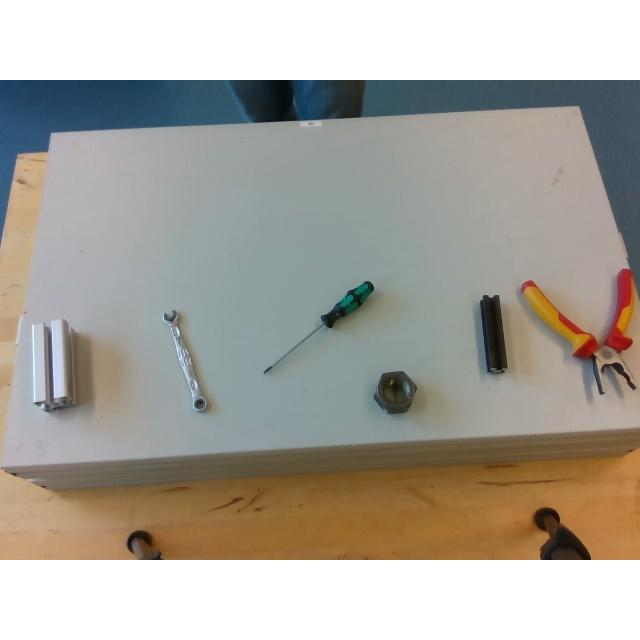F20_20_B: (480, 297, 506, 371)
M30: (374, 372, 416, 412)
S40_40_G: (32, 320, 76, 410)
Screwdriver: (263, 280, 373, 372)
Wrench: (162, 310, 205, 410)
